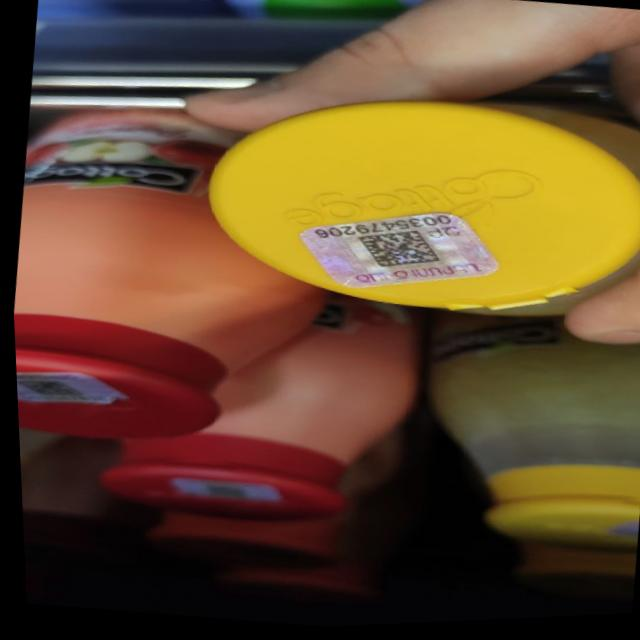datamatrix: (349, 224, 444, 280)
